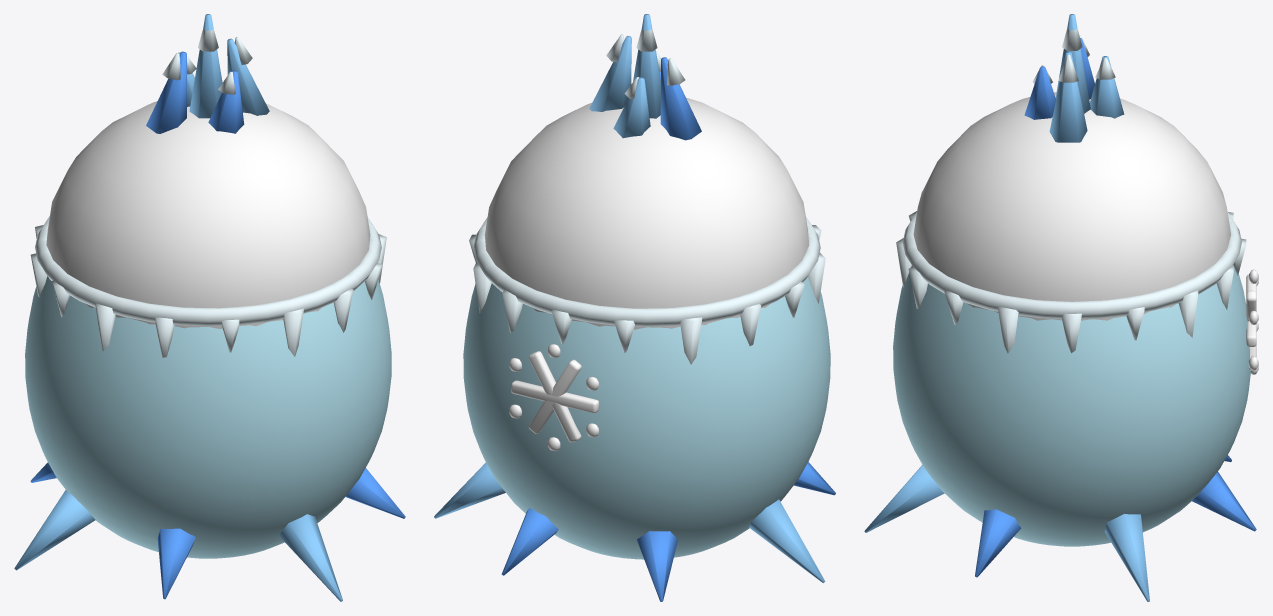
File: egg_ice.fbx
The picture shows the model from 3 angles, left to right: view 1: azimuth 30°, elevation 25°; view 2: azimuth 150°, elevation 25°; view 3: azimuth 270°, elevation 25°; orthographic projection. The views are drawn at different scales.
Parts seen in each view (by area): view 1: egg_ice; view 2: egg_ice; view 3: egg_ice.
Boxes of the visible parts, box(x1,y1,x2,y2) form: egg_ice: box(14, 14, 405, 601); egg_ice: box(434, 14, 835, 601); egg_ice: box(864, 14, 1258, 601).
Bounding box in the file's own units: 5.5 × 7.7 × 5.35.
Materials: 1 (1 with a texture image).
